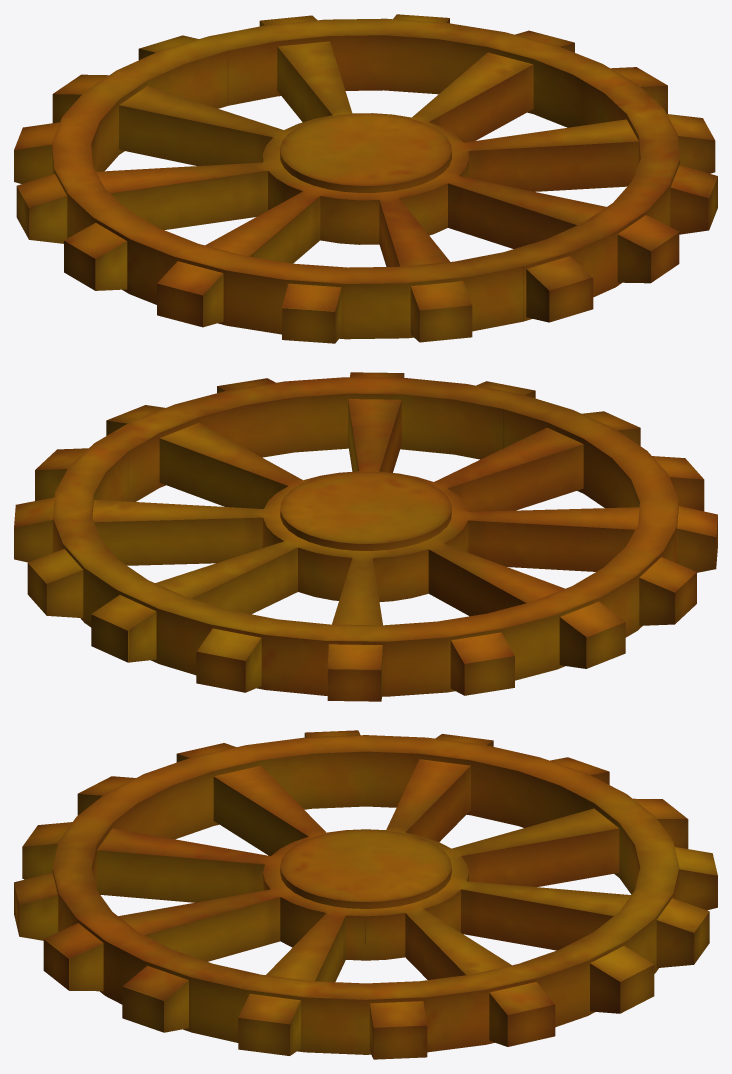
The model's file is Big Gear.fbx.
3 views of the same model, one above another, from view 1: azimuth 30°, elevation 25°; view 2: azimuth 150°, elevation 25°; view 3: azimuth 270°, elevation 25° (orthographic).
Visible parts, largest first — view 1: Cog Type A; view 2: Cog Type A; view 3: Cog Type A.
Boxes of the visible parts, x1,y1,x2,y2 form: Cog Type A: (14, 14, 717, 343); Cog Type A: (14, 372, 717, 701); Cog Type A: (14, 730, 717, 1059).
Bounding box in the file's own units: 29.19 × 2.67 × 29.19.
